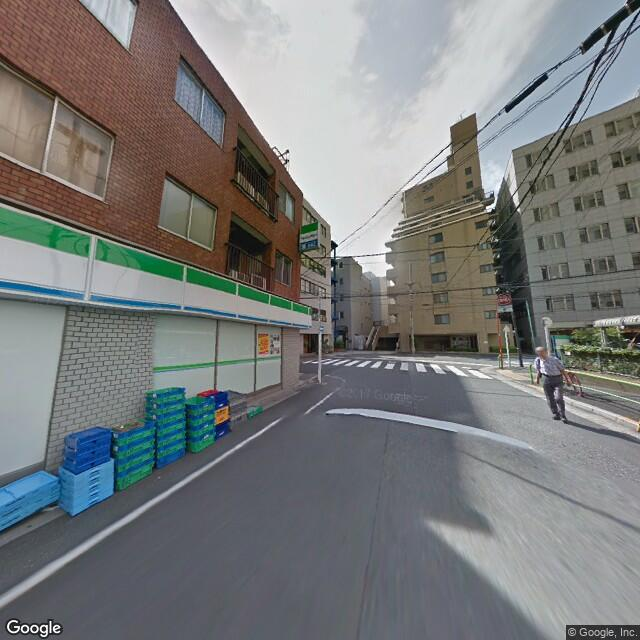family_mart: (1, 206, 313, 330), (301, 217, 320, 250)
